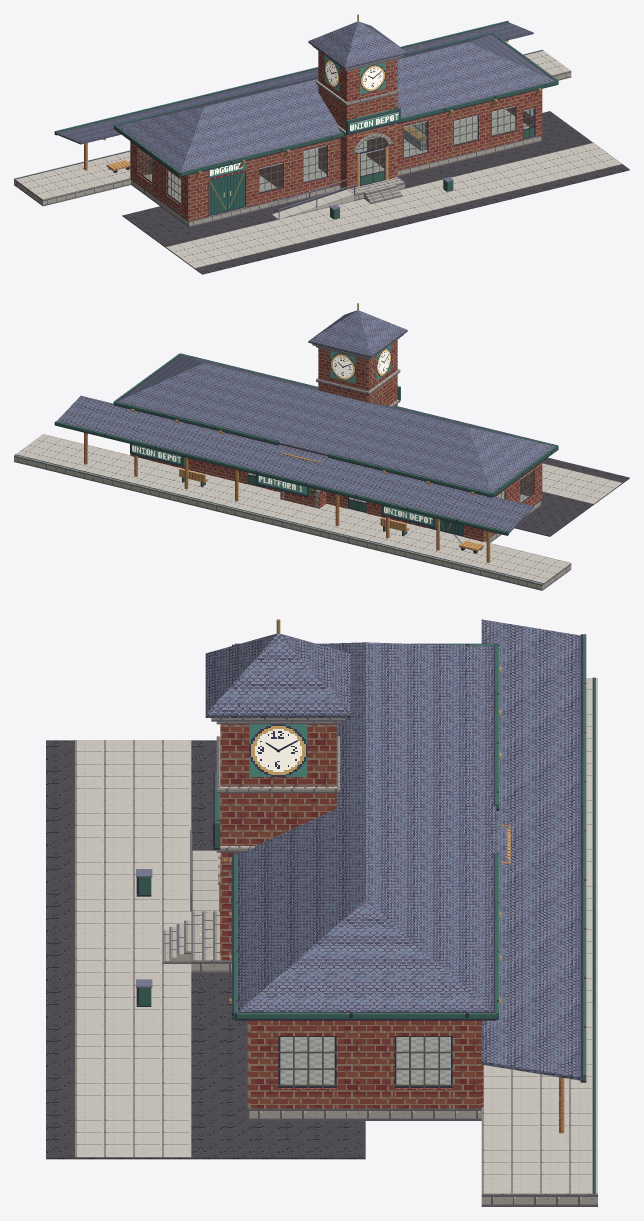
File: premier-railroad-depot.glb
The picture shows the model from 3 angles, top to bottom: view 1: azimuth 30°, elevation 25°; view 2: azimuth 150°, elevation 25°; view 3: azimuth 270°, elevation 25°; orthographic projection. The views are drawn at different scales.
Visible parts, largest first — view 1: structure__roof_slate, structure__wall_brick, lot__ground_paving, lot__ground_asphalt, structure__glass_depot, structure__wall_stone, rail_platform__roof_slate, rail_platform__ground_paving, structure__trim_teal, structure__floor_terrazzo, structure__glow_depot, panel_door_baggage_street__detail_utility (+7 smaller); view 2: structure__roof_slate, rail_platform__roof_slate, rail_platform__ground_paving, structure__wall_brick, rail_platform__wall_stone, rail_platform__trim_teal, structure__trim_teal, lot__ground_asphalt, lot__ground_paving, structure__glow_depot, rail_platform__trim_timber, structure__wall_stone (+4 smaller); view 3: structure__roof_slate, lot__ground_paving, rail_platform__roof_slate, lot__ground_asphalt, structure__wall_brick, rail_platform__ground_paving, structure__wall_stone, structure__glass_depot, structure__trim_teal, rail_platform__trim_teal, structure__floor_terrazzo, structure__glow_depot (+2 smaller).
Boxes of the visible parts, x1,y1,x2,y2 form: structure__roof_slate: (117,21,554,172); structure__wall_brick: (130,51,542,220); lot__ground_paving: (166,143,622,268); lot__ground_asphalt: (122,111,629,274); structure__glass_depot: (138,105,533,204); structure__wall_stone: (131,46,541,227); rail_platform__roof_slate: (56,22,533,144); rail_platform__ground_paving: (14,49,570,199); structure__trim_teal: (113,32,558,176); structure__floor_terrazzo: (144,109,529,210); structure__glow_depot: (208,55,385,178); panel_door_baggage_street__detail_utility: (208,171,245,215); structure__roof_slate: (117,310,554,492); rail_platform__roof_slate: (57,395,533,533); rail_platform__ground_paving: (14,434,570,584); structure__wall_brick: (130,340,542,541); rail_platform__wall_stone: (14,455,571,590); rail_platform__trim_teal: (15,421,543,583); structure__trim_teal: (113,353,558,497); lot__ground_asphalt: (514,457,629,536); lot__ground_paving: (542,463,622,503); structure__glow_depot: (330,344,391,383); rail_platform__trim_timber: (83,432,490,562); structure__wall_stone: (281,334,541,542); structure__roof_slate: (205,633,496,1011); lot__ground_paving: (75,740,191,1157); rail_platform__roof_slate: (481,619,583,1080); lot__ground_asphalt: (46,740,365,1159); structure__wall_brick: (220,724,483,1108); rail_platform__ground_paving: (481,678,597,1193); structure__wall_stone: (162,718,510,1120); structure__glass_depot: (278,1036,452,1087); structure__trim_teal: (213,643,498,1020); rail_platform__trim_teal: (580,634,595,1193); structure__floor_terrazzo: (280,1038,450,1084); structure__glow_depot: (249,724,307,776).
Size of what is drawn, in the model's own units: 52.15 by 15.6 by 23.59.
Materials: 12 (12 with a texture image).
